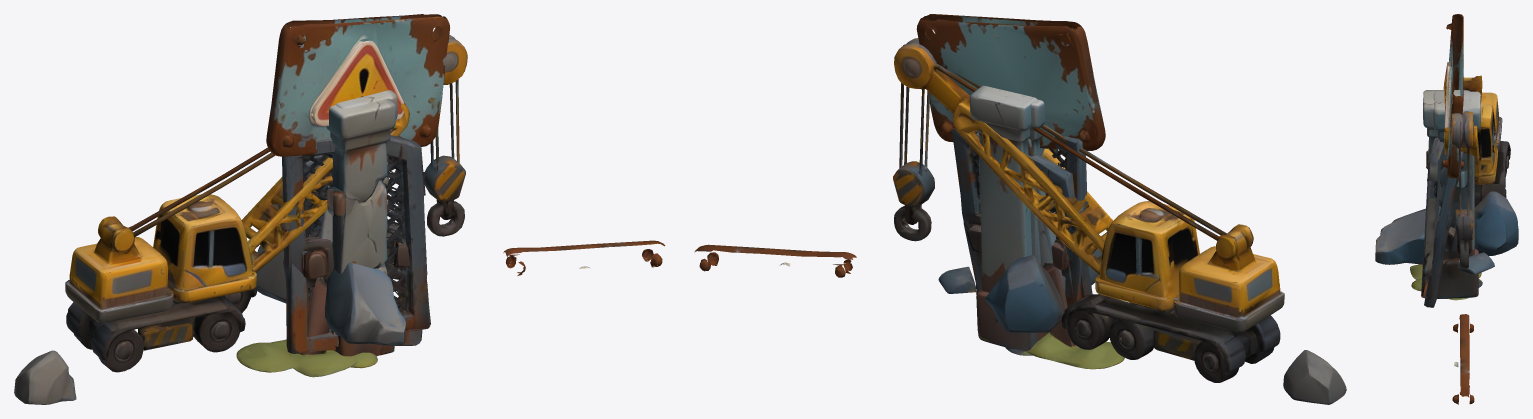
File: rk_set.glb
3 renders of one model, left to right at view 1: azimuth 30°, elevation 25°; view 2: azimuth 150°, elevation 25°; view 3: azimuth 270°, elevation 25°, orthographic. The views are drawn at different scales.
Parts seen in each view (by area): view 1: crane, sign, gate_door_r, gate_post_r, gate_door_l, gate_post_l; view 2: crane, sign, gate_post_l, gate_door_l, gate_door_r, gate_post_r; view 3: crane, gate_post_l, sign, gate_door_r, gate_door_l, gate_post_r.
Part boxes in pixels (x1,y1,x2,y2): crane: [14, 34, 665, 404]; sign: [236, 14, 449, 377]; gate_door_r: [282, 135, 430, 331]; gate_post_r: [326, 98, 395, 356]; gate_door_l: [274, 155, 422, 353]; gate_post_l: [335, 90, 397, 368]; crane: [694, 38, 1346, 404]; sign: [916, 14, 1124, 369]; gate_post_l: [969, 85, 1037, 355]; gate_door_l: [952, 128, 1092, 298]; gate_door_r: [974, 136, 1087, 306]; gate_post_r: [1023, 99, 1057, 340]; crane: [1375, 75, 1518, 404]; gate_post_l: [1411, 91, 1482, 298]; sign: [1410, 14, 1481, 279]; gate_door_r: [1421, 138, 1469, 300]; gate_door_l: [1424, 151, 1463, 307]; gate_post_r: [1423, 90, 1468, 298].
Size of the model in its own units: 0.9015 by 0.4425 by 0.227.
Materials: 1 (1 with a texture image).
